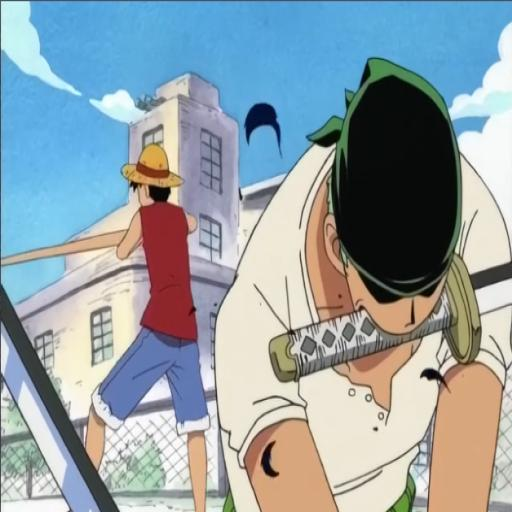Luffy: (74, 143, 215, 512)
Zoro: (211, 7, 512, 512)
